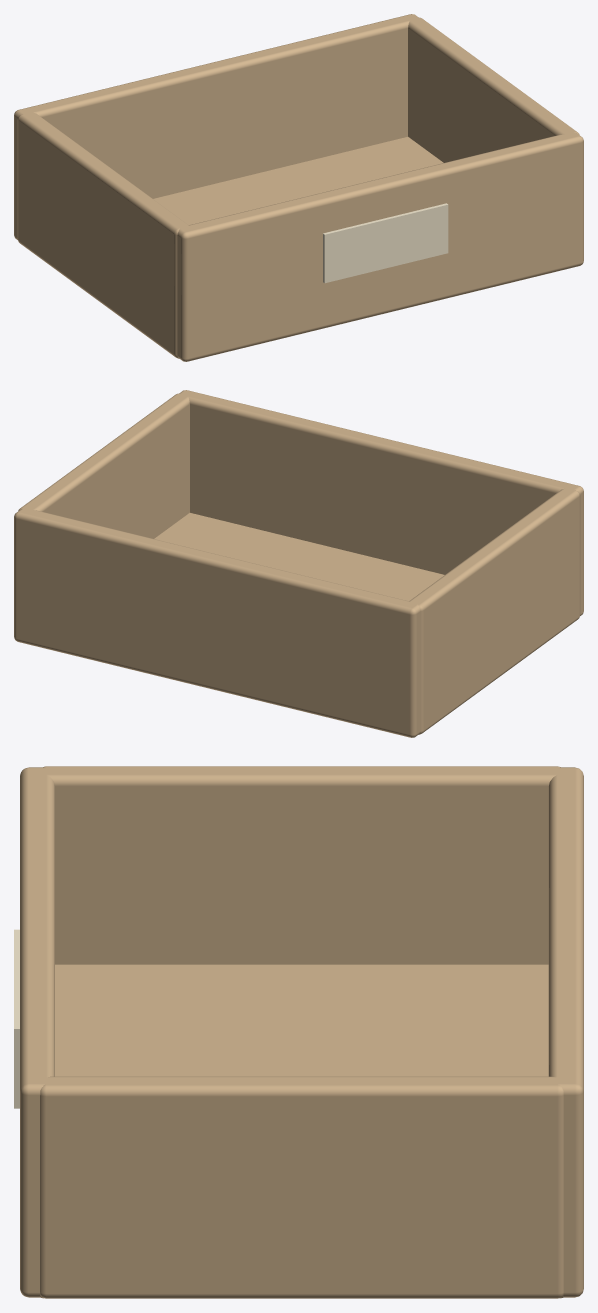
Rendered from rock_crate.gltf.
The picture shows the model from 3 angles, top to bottom: view 1: azimuth 30°, elevation 25°; view 2: azimuth 150°, elevation 25°; view 3: azimuth 270°, elevation 25°; orthographic projection. The views are drawn at different scales.
Visible parts, largest first — view 1: Side-1, Side1, End-1, End1, Bottom, Label; view 2: Side1, Side-1, End-1, End1, Bottom; view 3: End1, End-1, Bottom, Side1, Side-1, Label.
Part boxes in pixels (box(x1,y1,x2,y2)): Side-1: box(177, 132, 583, 361); Side1: box(14, 14, 418, 239); End-1: box(17, 112, 188, 357); End1: box(408, 17, 579, 162); Bottom: box(153, 137, 443, 358); Label: box(323, 203, 448, 283); Side1: box(14, 508, 420, 737); Side-1: box(179, 390, 583, 615); End-1: box(409, 488, 580, 733); End1: box(18, 393, 189, 538); Bottom: box(154, 513, 444, 734); End1: box(40, 1076, 563, 1298); End-1: box(43, 766, 560, 964); Bottom: box(39, 964, 563, 1298); Side1: box(548, 767, 583, 1297); Side-1: box(20, 767, 54, 1297); Label: box(14, 929, 19, 1108).
Bounding box in the file's own units: 0.262 × 0.08 × 0.194.
